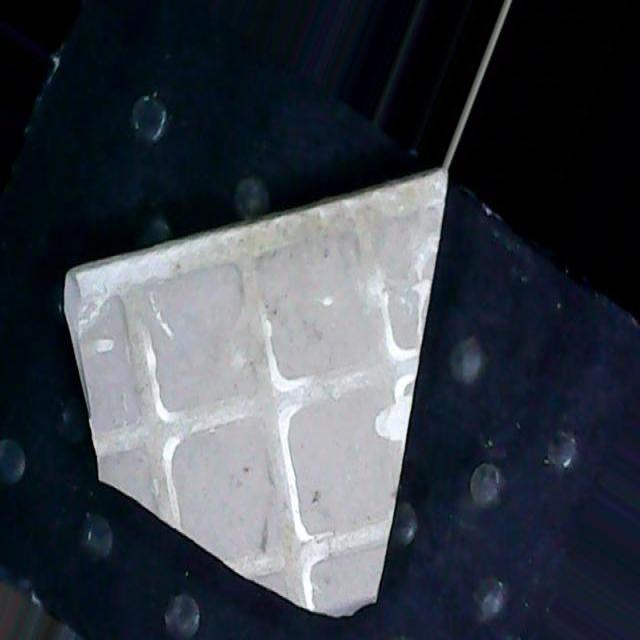-Other waste - brick-: (66, 168, 451, 617)
